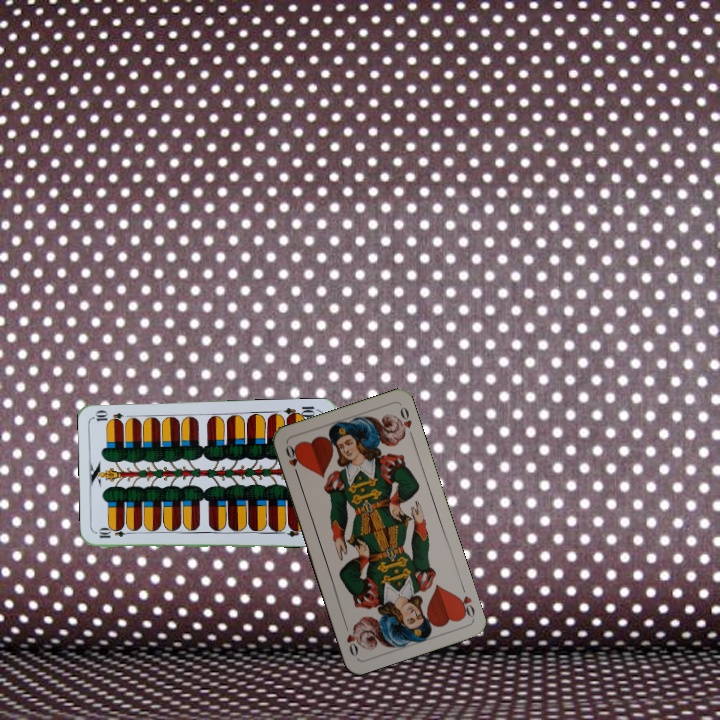E10: (281, 402, 321, 422), (95, 526, 135, 541)
HO: (453, 581, 477, 621), (281, 441, 302, 480)
